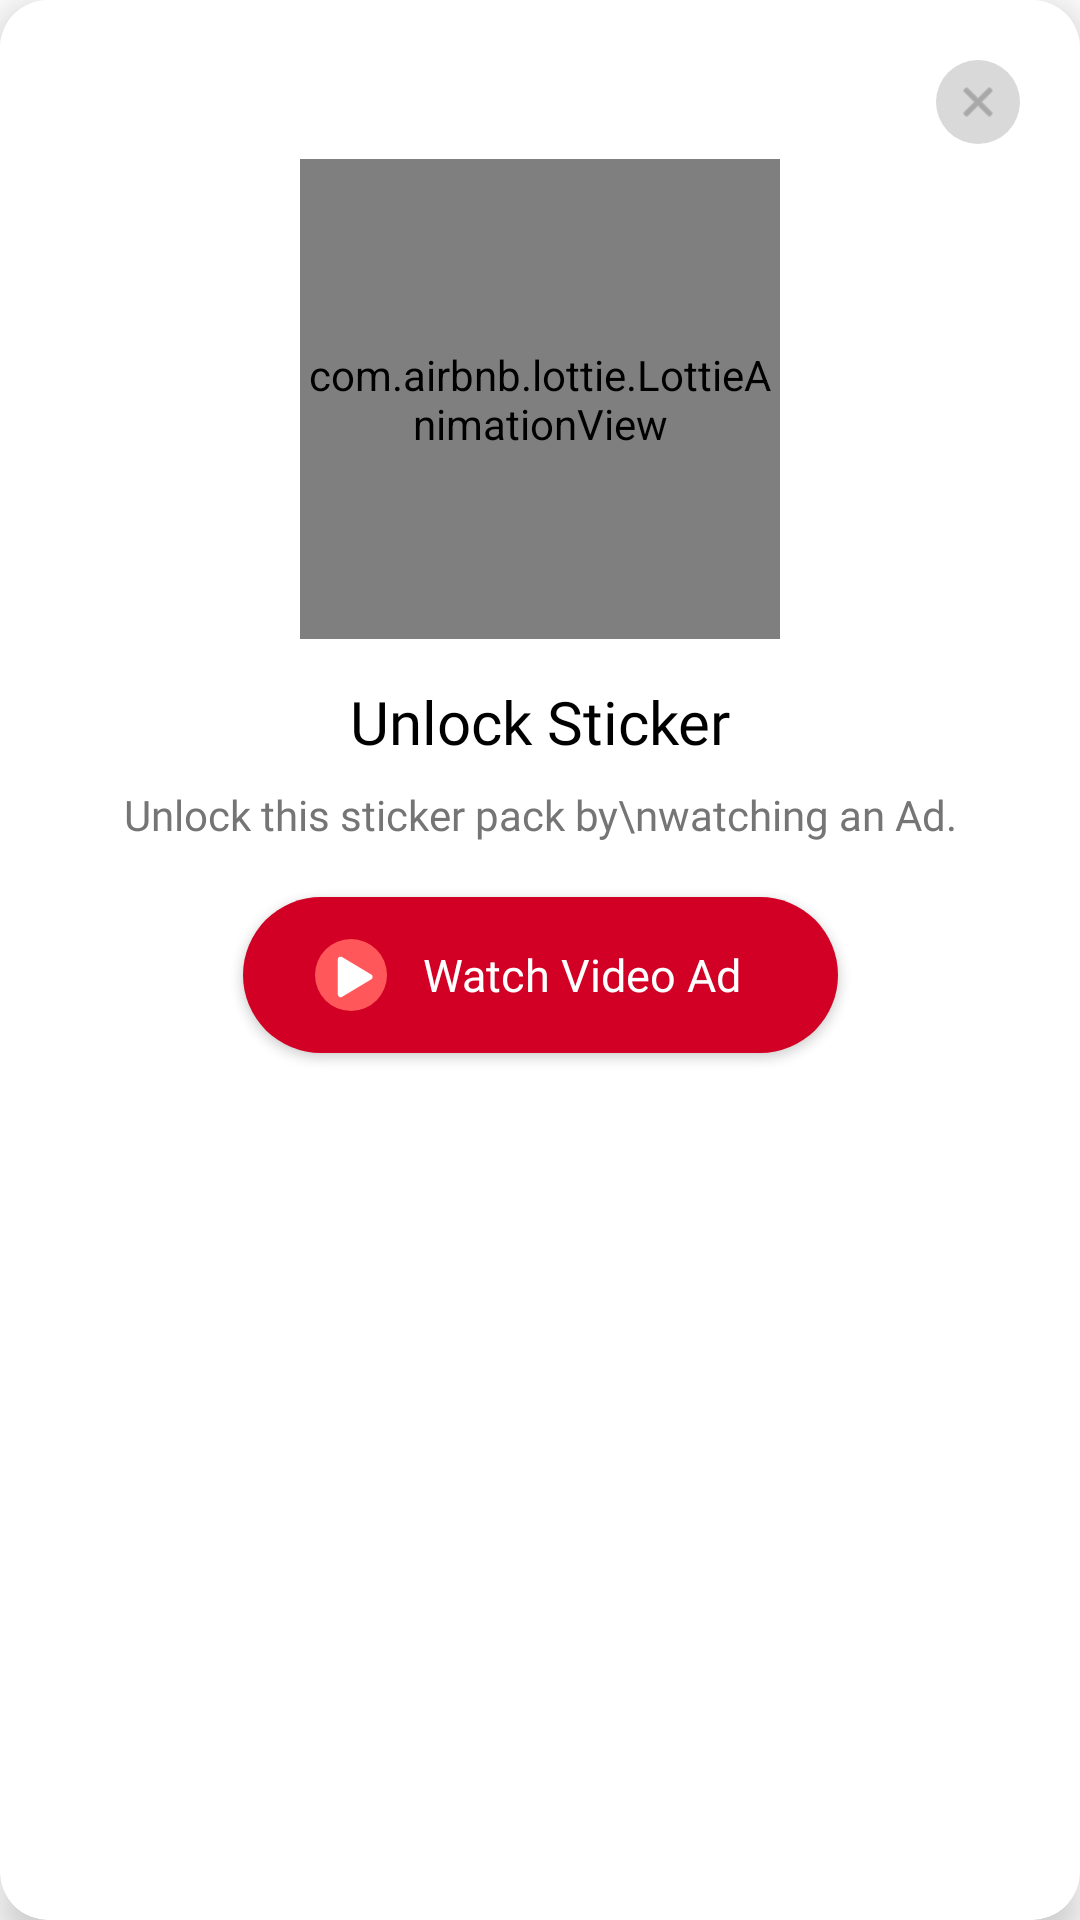

Screen size 1080px×1920px. Icon name, then its box in pixels as box(x1, y1, x2, y2):
close clear cancel: box(936, 60, 1020, 144)
